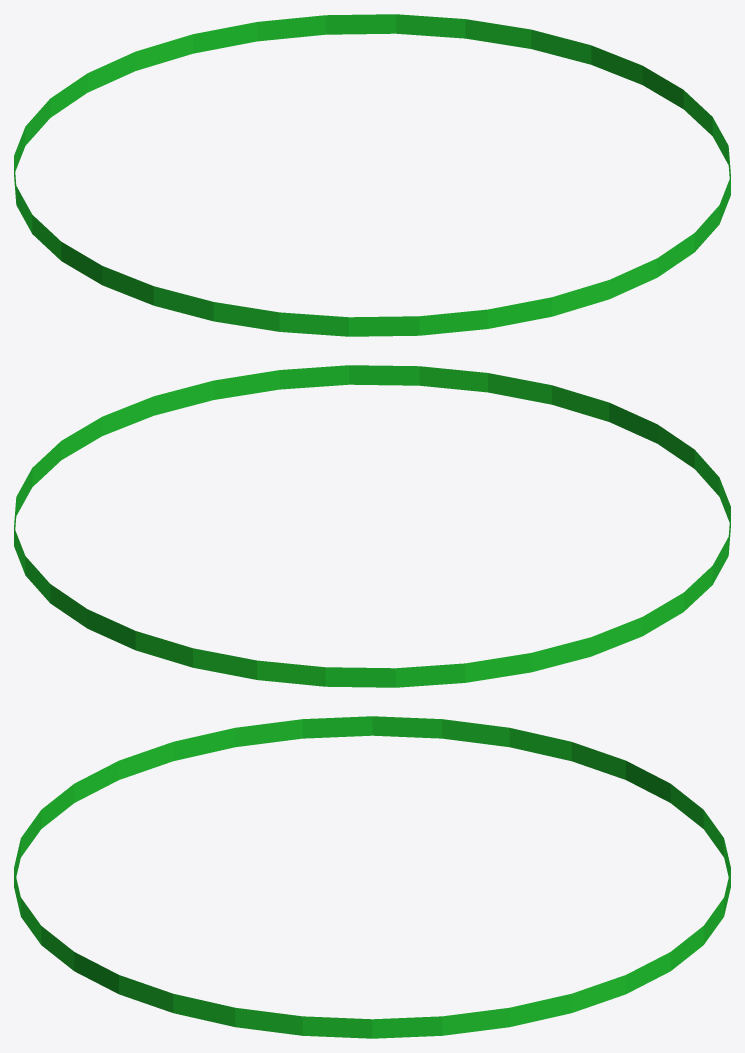
The picture shows the model from 3 angles, top to bottom: view 1: azimuth 30°, elevation 25°; view 2: azimuth 150°, elevation 25°; view 3: azimuth 270°, elevation 25°; orthographic projection.
Parts seen in each view (by area): view 1: Окружность; view 2: Окружность; view 3: Окружность.
Boxes of the visible parts, bbox=[...] form: Окружность: bbox=[14, 14, 730, 336]; Окружность: bbox=[14, 365, 730, 687]; Окружность: bbox=[14, 716, 730, 1038].
Size of the model in its own units: 2 by 0.06 by 2.
